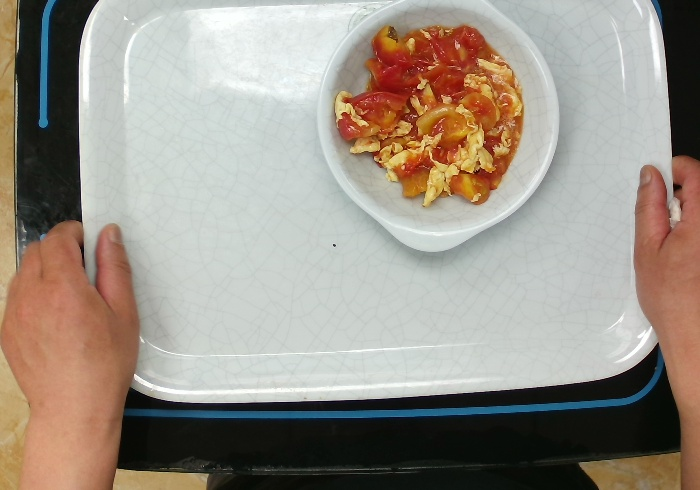JYsf-Shuang_Er_Wan: (312, 8, 567, 267)
